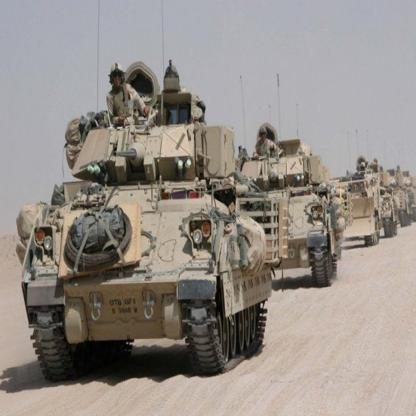Tank: (25, 75, 274, 376)
